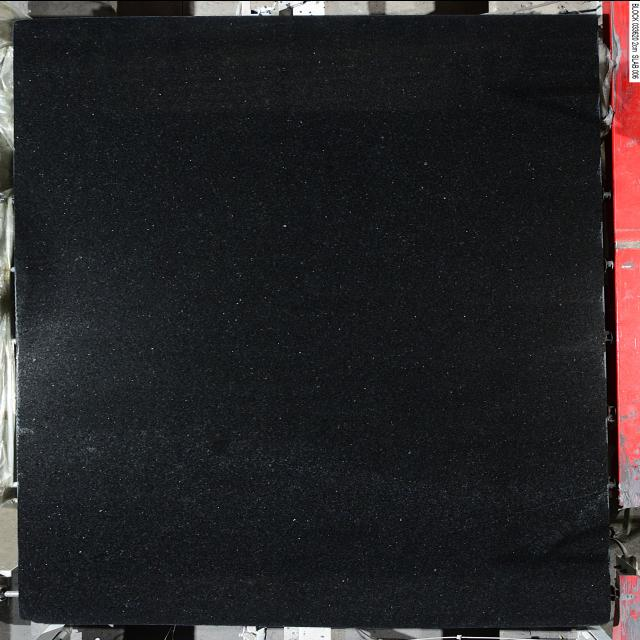chapa: (14, 15, 610, 626)
